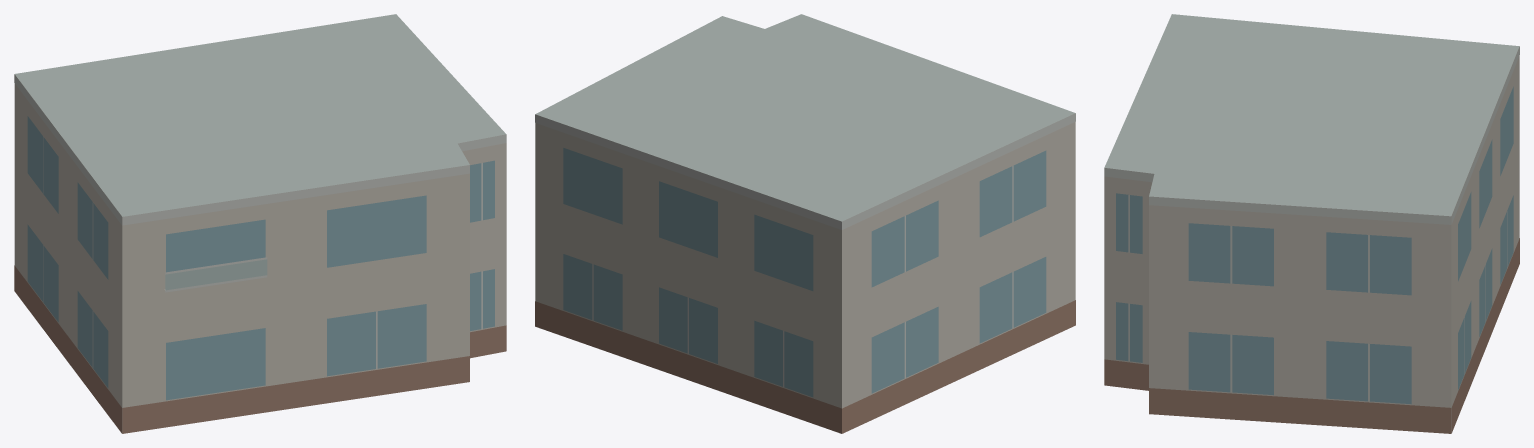
The model's file is survey-upis-32920591.glb.
3 views of the same model, side by side, from view 1: azimuth 30°, elevation 25°; view 2: azimuth 150°, elevation 25°; view 3: azimuth 270°, elevation 25° (orthographic). The views are drawn at different scales.
Visible parts, largest first — view 1: survey-upis-32920591.tmp; view 2: survey-upis-32920591.tmp; view 3: survey-upis-32920591.tmp.
Boxes of the visible parts, x1=… form: survey-upis-32920591.tmp: x1=14, y1=14, x2=506, y2=433; survey-upis-32920591.tmp: x1=535, y1=14, x2=1075, y2=433; survey-upis-32920591.tmp: x1=1104, y1=14, x2=1519, y2=433.
Bounding box in the file's own units: 12.17 × 6.1 × 10.57.
